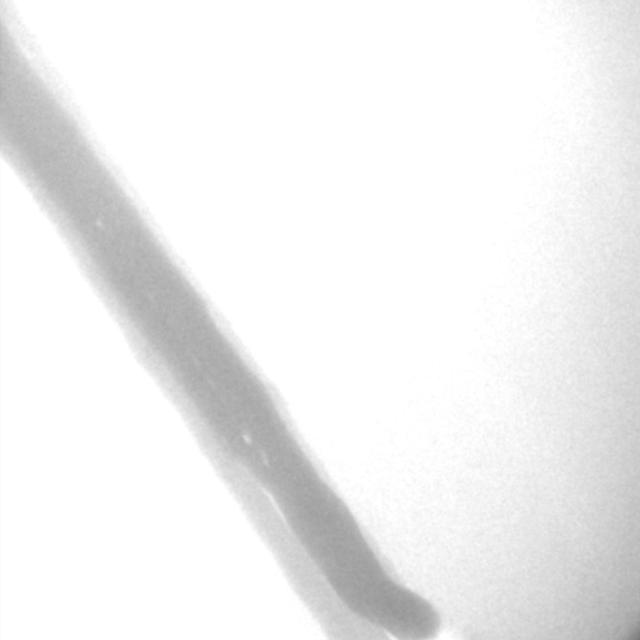air hole: (240, 432, 250, 444), (95, 220, 104, 229)
